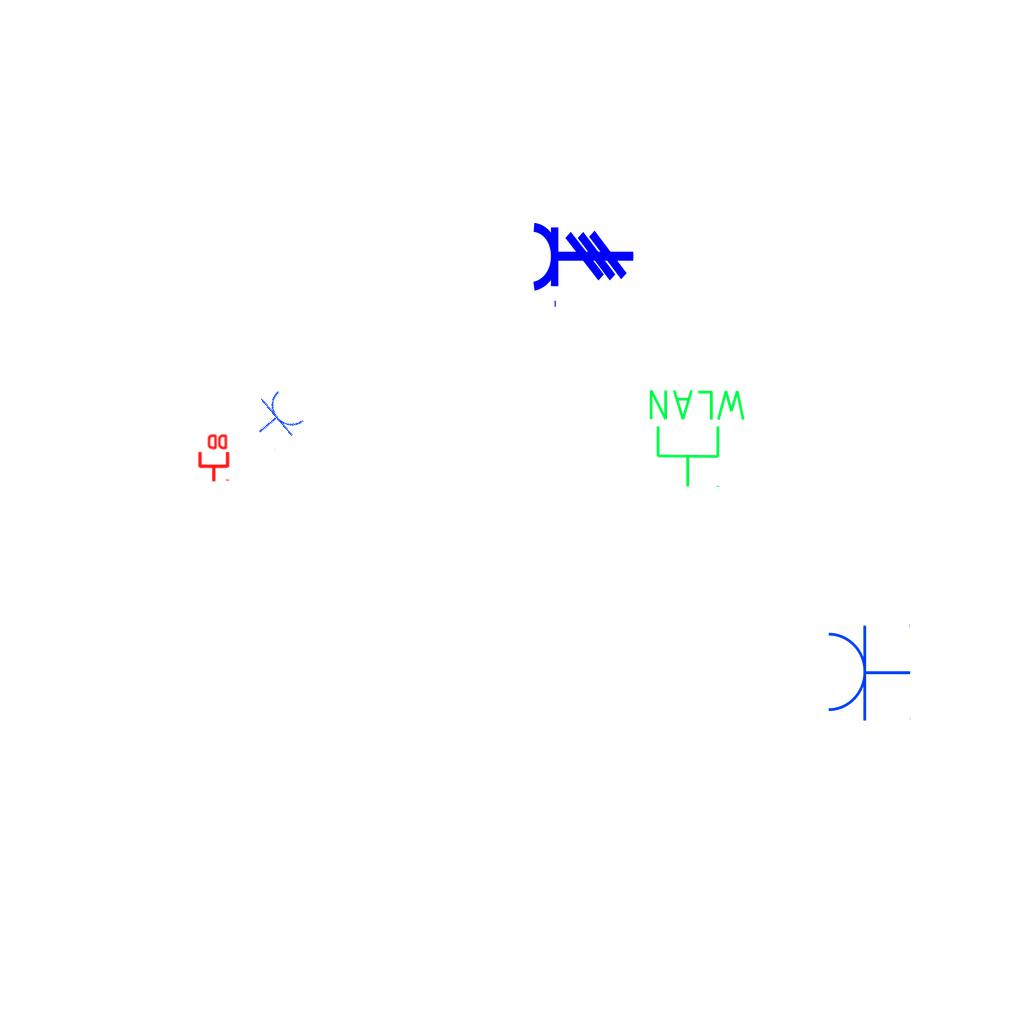CEE_Drehstrom_Steckdose_16_32_A: (531, 220, 635, 310)
Datenanschluss_zweifach: (196, 432, 230, 483)
Schukosteckdose_einfach: (824, 622, 911, 722), (243, 385, 309, 452)
WLAN: (645, 386, 750, 490)
